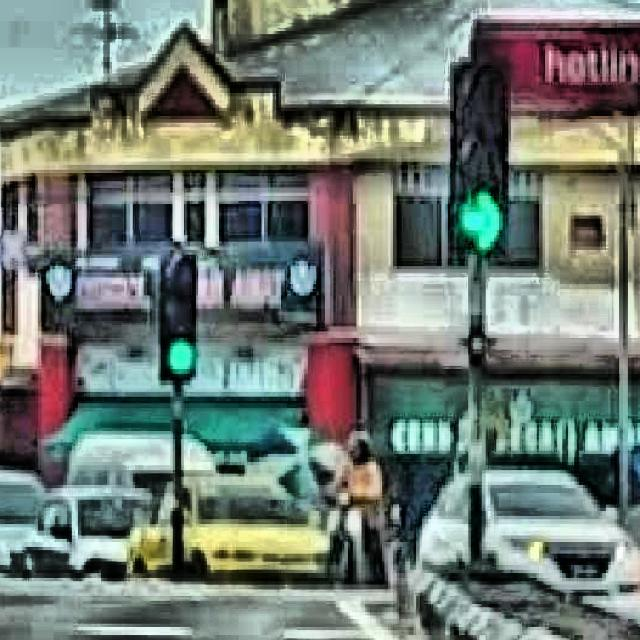green: (455, 60, 509, 255), (162, 253, 196, 377)
